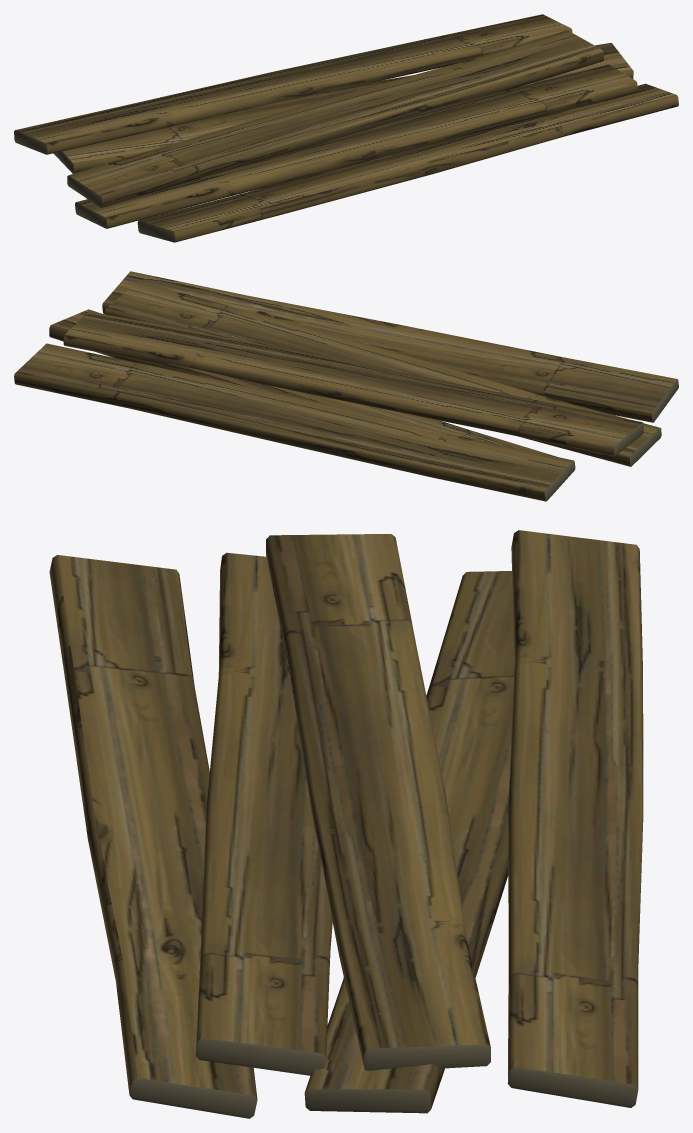
File: plankBridge.fbx
3 renders of one model, top to bottom at view 1: azimuth 30°, elevation 25°; view 2: azimuth 150°, elevation 25°; view 3: azimuth 270°, elevation 25°, orthographic. The views are drawn at different scales.
Visible parts, largest first — view 1: plank6; view 2: plank6; view 3: plank6.
Boxes of the visible parts, left/top/right/bottom form: plank6: left=14, top=14, right=678, bottom=242; plank6: left=14, top=271, right=678, bottom=501; plank6: left=49, top=530, right=643, bottom=1118.
Size of the model in its own units: 2.31 by 0.1411 by 1.06.
